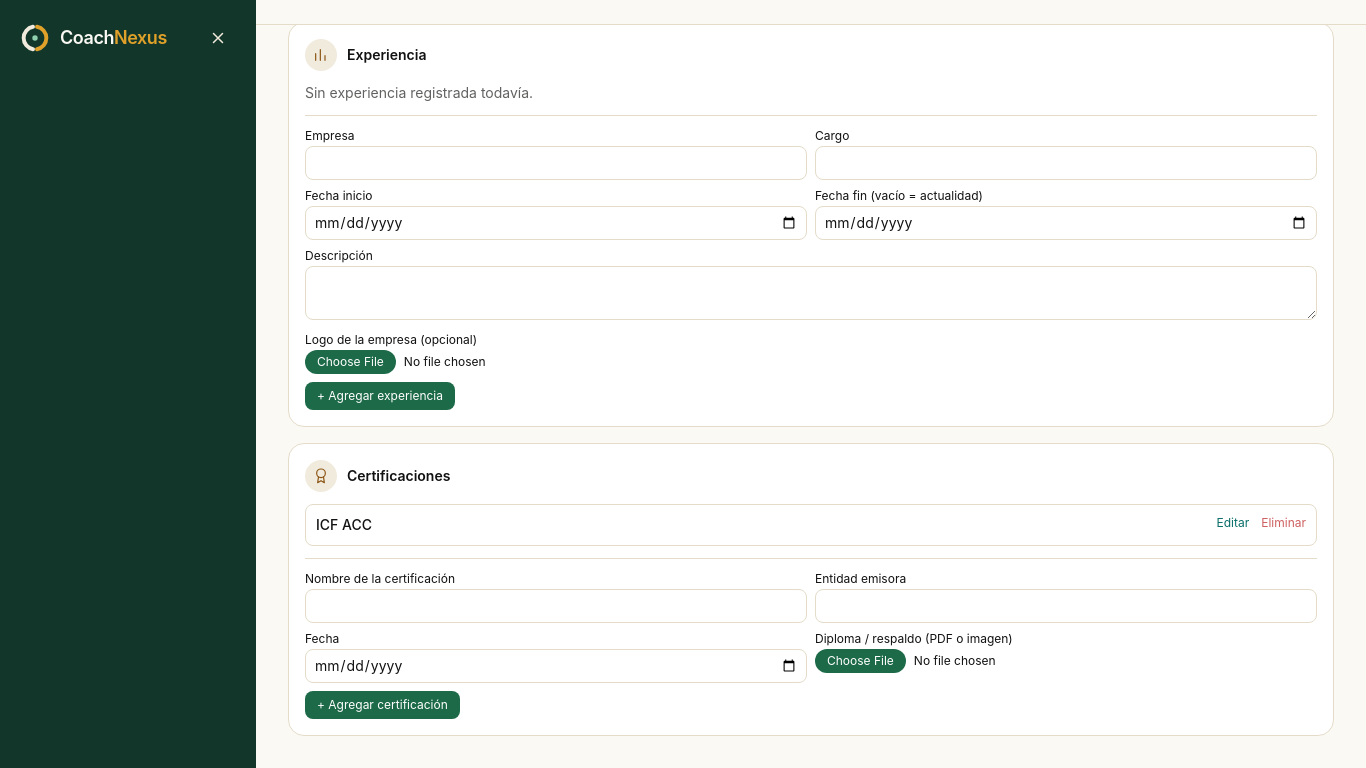
Test case: PerfilView › deletes a certificación
The image size is (1366, 768).
(page scrolled)
Click the button "Eliminar": (1284,523) [1261,515,1306,531]
(page scrolled)
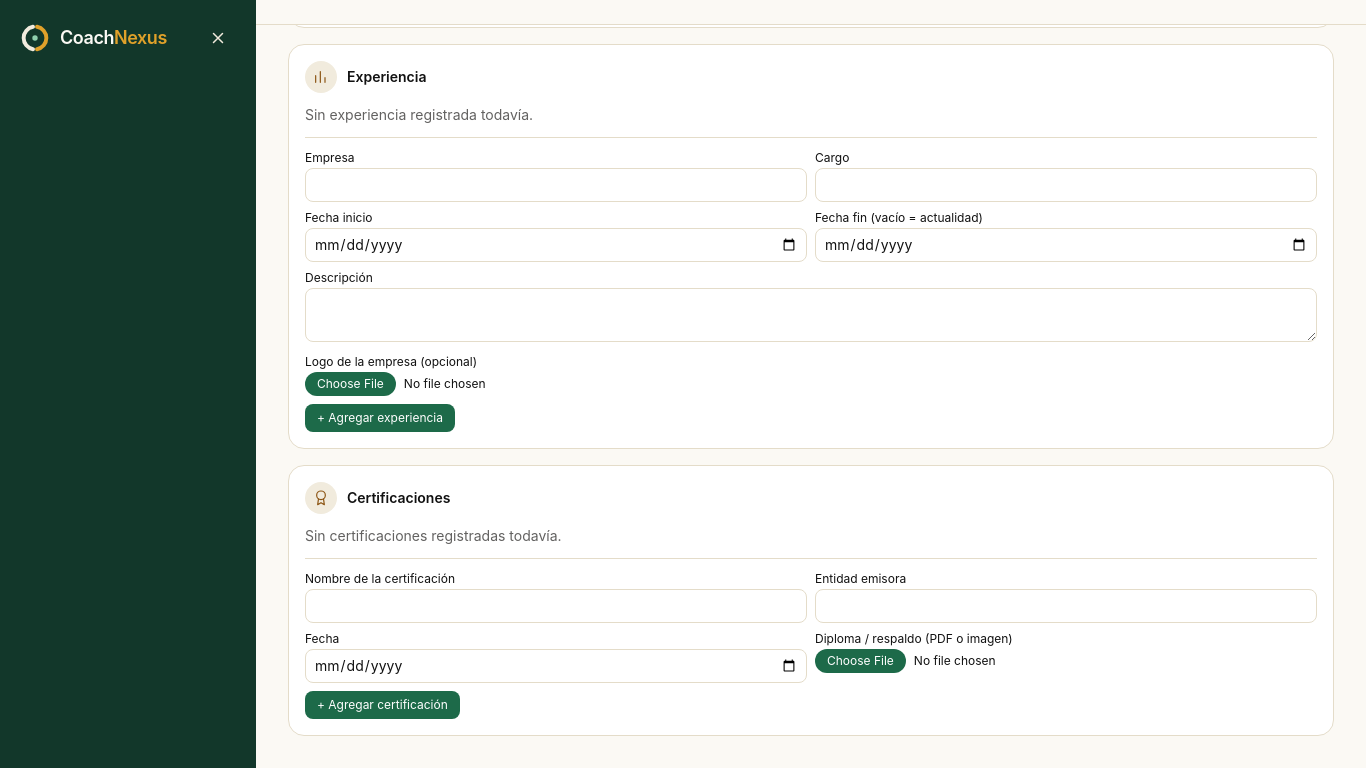
Now the text "ICF ACC" is gone
